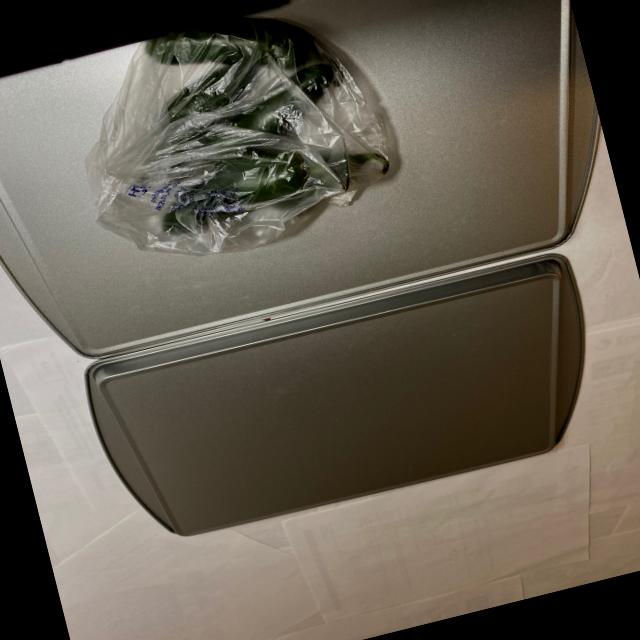chilli: (103, 0, 404, 248)
